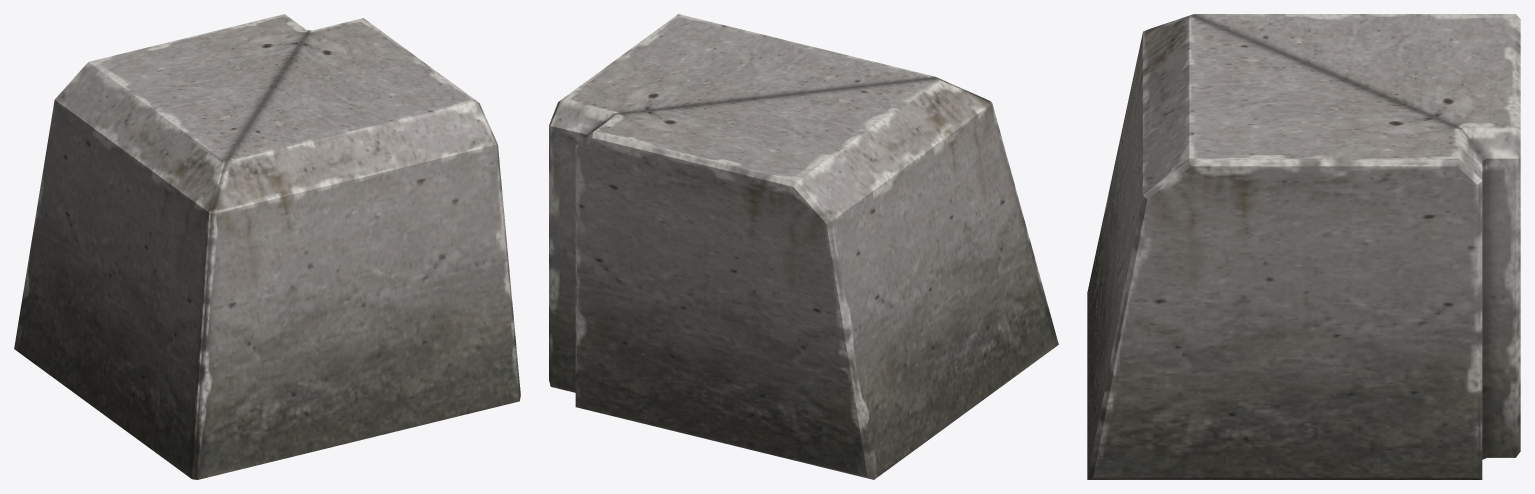
Rendered from SM_CURB_Corner_FL.fbx.
The picture shows the model from 3 angles, left to right: view 1: azimuth 30°, elevation 25°; view 2: azimuth 150°, elevation 25°; view 3: azimuth 270°, elevation 25°; orthographic projection. The views are drawn at different scales.
Visible parts, largest first — view 1: SM_CURB_Corner_FL; view 2: SM_CURB_Corner_FL; view 3: SM_CURB_Corner_FL.
Part boxes in pixels (<box>): SM_CURB_Corner_FL: <box>14,14,520,479</box>; SM_CURB_Corner_FL: <box>549,14,1058,479</box>; SM_CURB_Corner_FL: <box>1087,14,1520,479</box>.
Bounding box in the file's own units: 0.2305 × 0.18 × 0.2209.
1 material, 1 textured.
